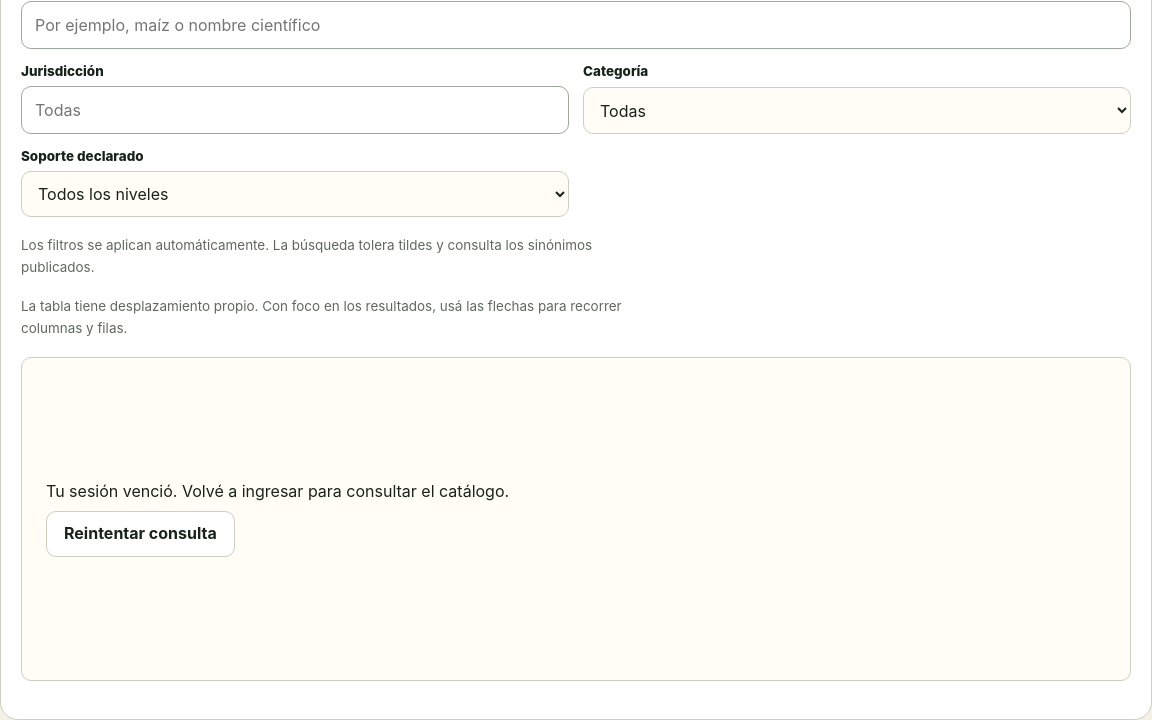
Test: CatalogReader › keeps the shell usable after signed-out and offers a scoped retry
(page scrolled)
expect the message is shown: met, box [46,481,509,557]
expect the search field is enabled: met, box [21,1,1131,49]
Click the button "Reintentar consulta". click: (140, 534)
box: [46,511,235,557]
Wait 300 ms
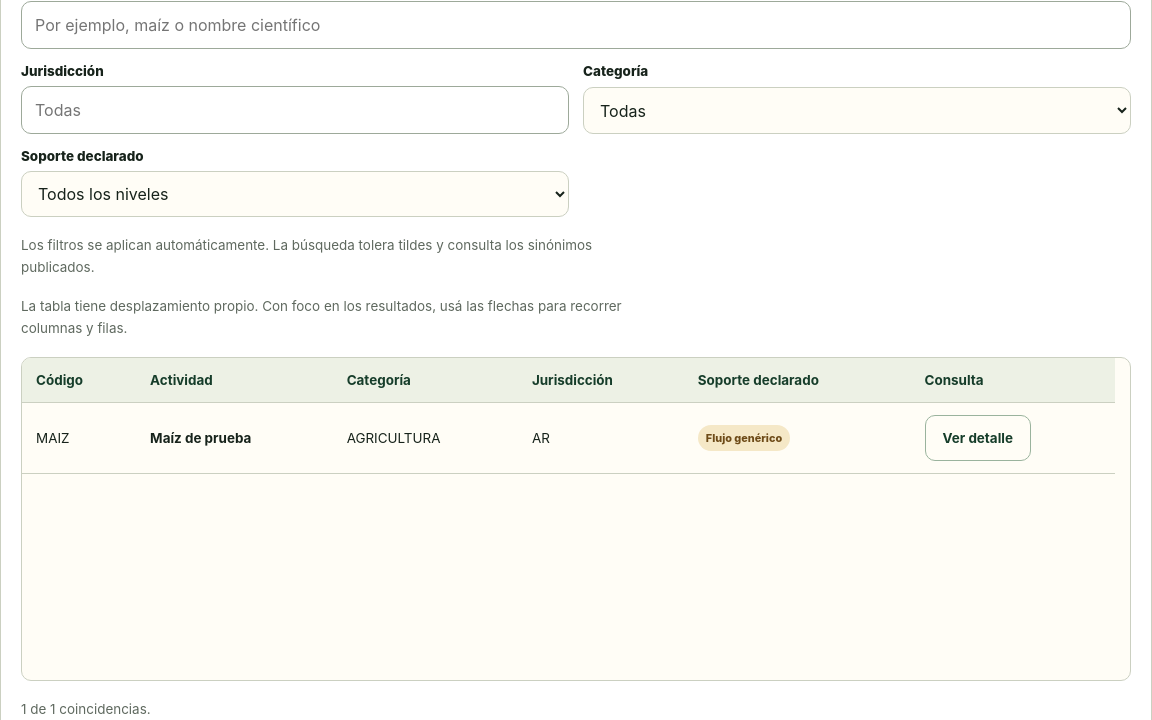
expect the column heading "Maíz de prueba" is shown: met, box [136,403,333,474]
